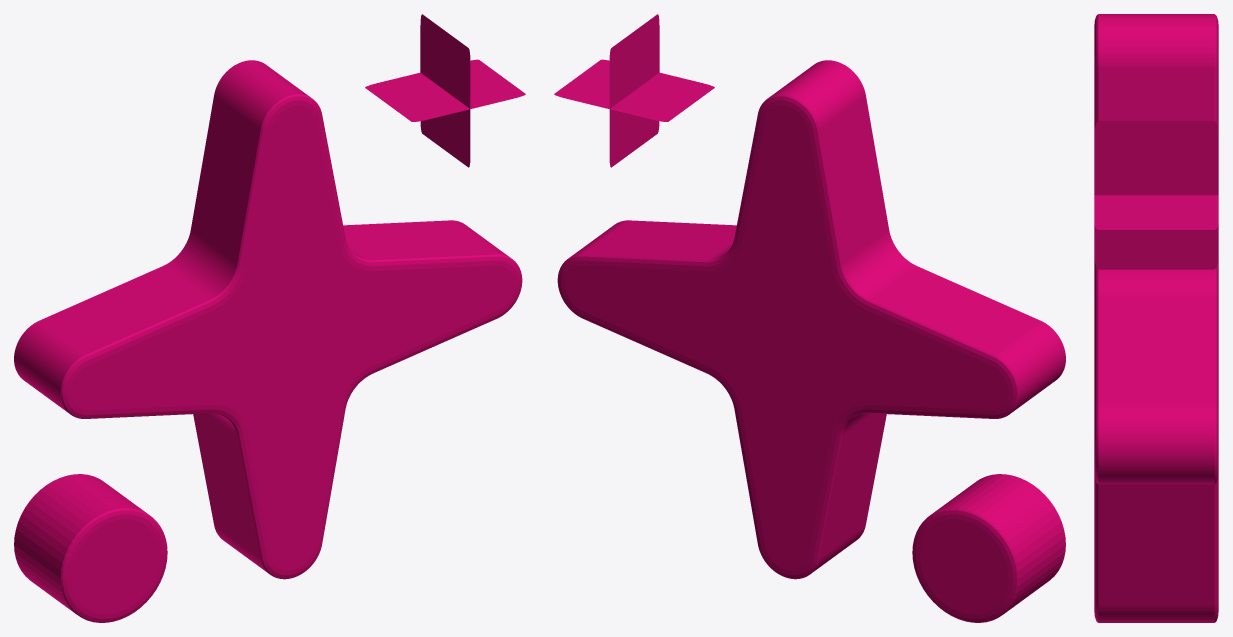
The model's file is icon.glb.
3 renders of one model, left to right at view 1: azimuth 30°, elevation 25°; view 2: azimuth 150°, elevation 25°; view 3: azimuth 270°, elevation 25°, orthographic. The views are drawn at different scales.
Bounding box in the file's own units: 2.1 × 2.1 × 0.3911.
